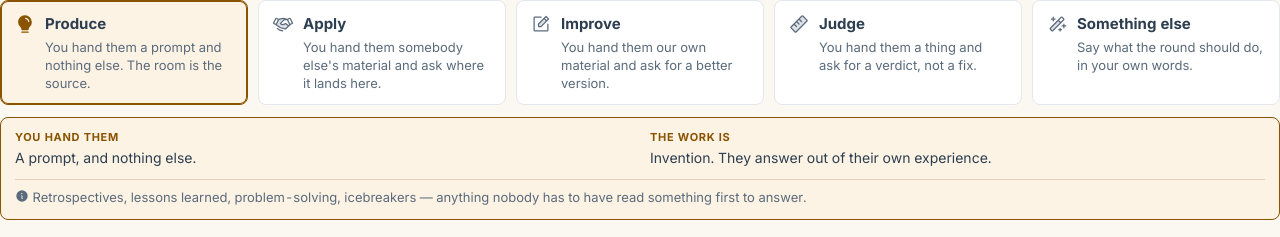
Test case: choosing a kind changes what the screen says about it › the checked radio follows the click
Click the radio button labelled "Judge" at (898, 53), box [774, 0, 1022, 105]
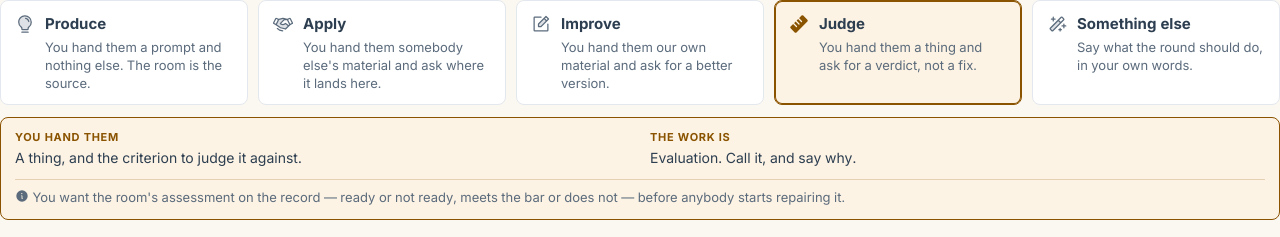
Now the radio button labelled "Judge" is checked, box [774, 0, 1022, 105]
Now the radio button labelled "Produce" is not checked, box [0, 0, 248, 105]
